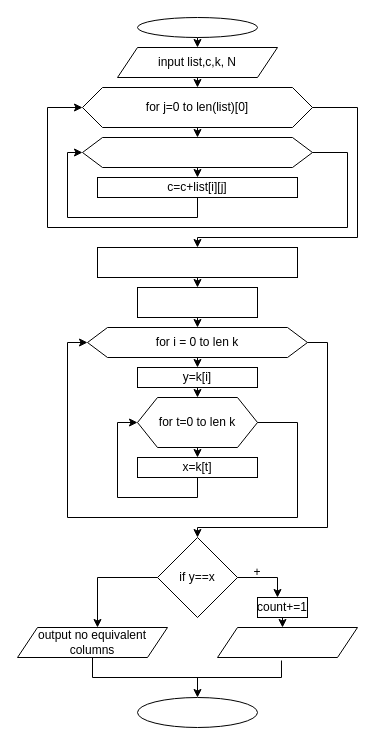
Image size: 383x745. Some labels were removed from this diagram. Each missing label, with the box of its shape:
begin: (136, 16, 258, 38)
convert chunked list into lists of sets: (136, 286, 258, 318)
for i=0 to len[list]: (82, 136, 312, 168)
list k=chunked list c: (96, 246, 298, 278)
output count: (216, 626, 358, 658)
